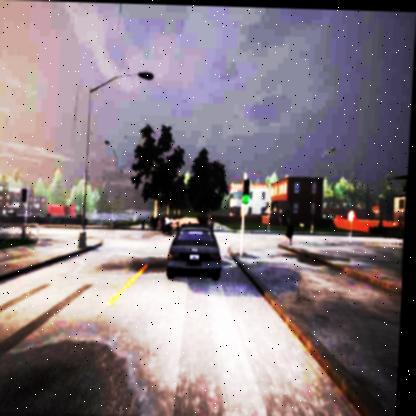motobike: (162, 215, 174, 233)
vehicle: (167, 224, 228, 281)
